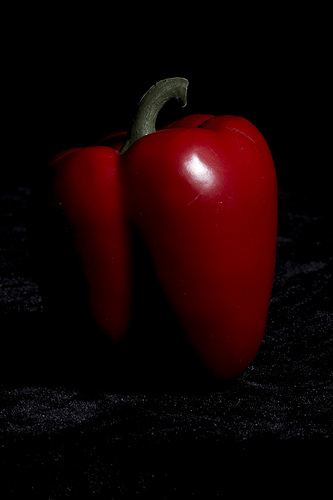capsicum: (43, 72, 281, 393)
